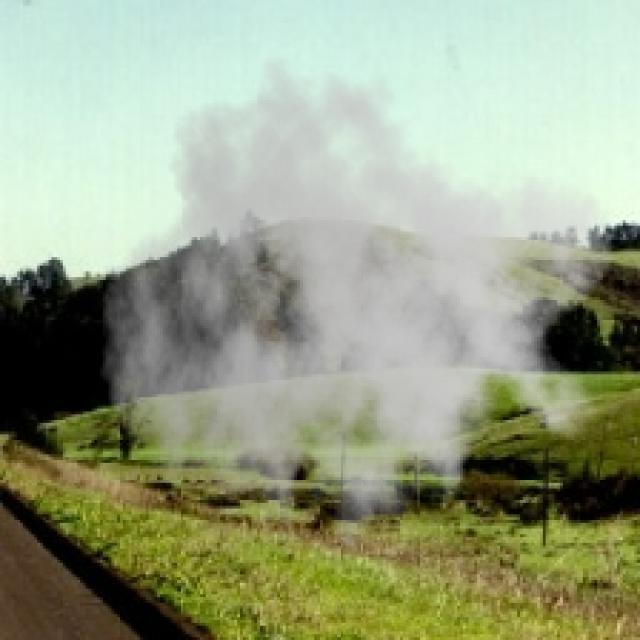Smoke: (100, 43, 617, 583)
